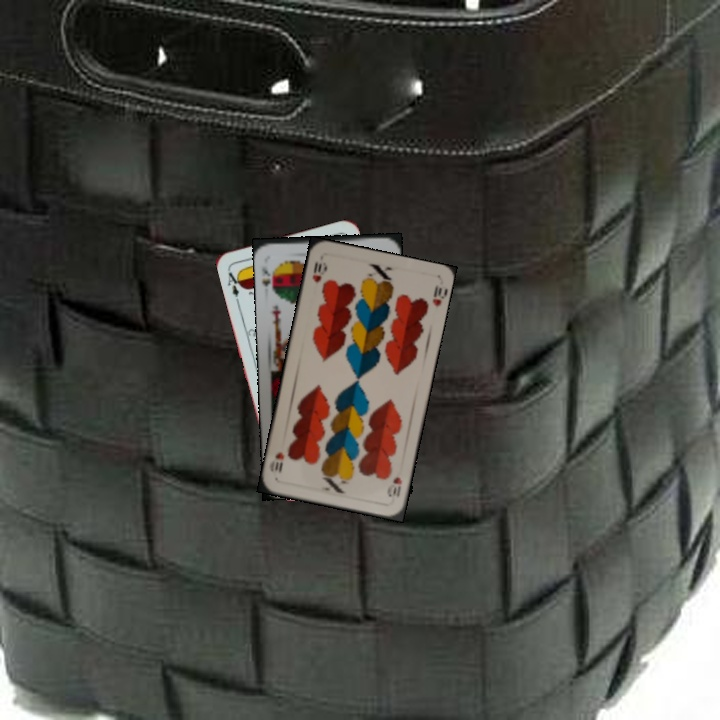EA: (223, 264, 245, 304)
H10: (308, 257, 329, 285), (384, 472, 404, 500)
SK: (258, 263, 278, 294)
